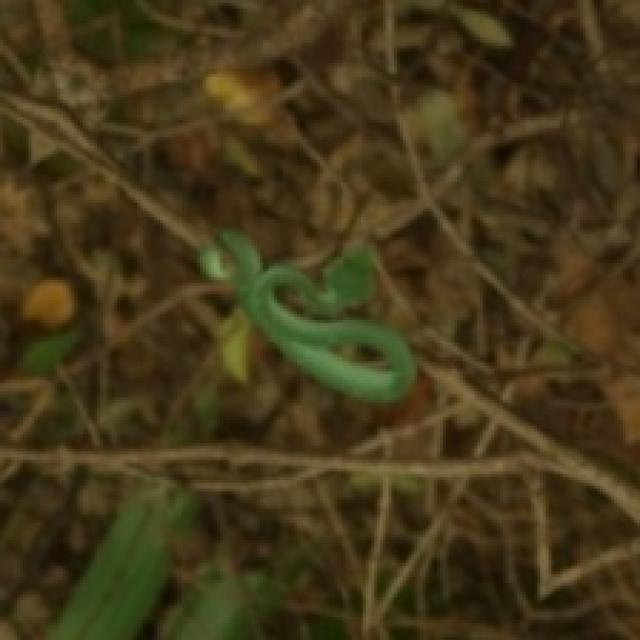north ph temple pitviper: (200, 229, 414, 400)
